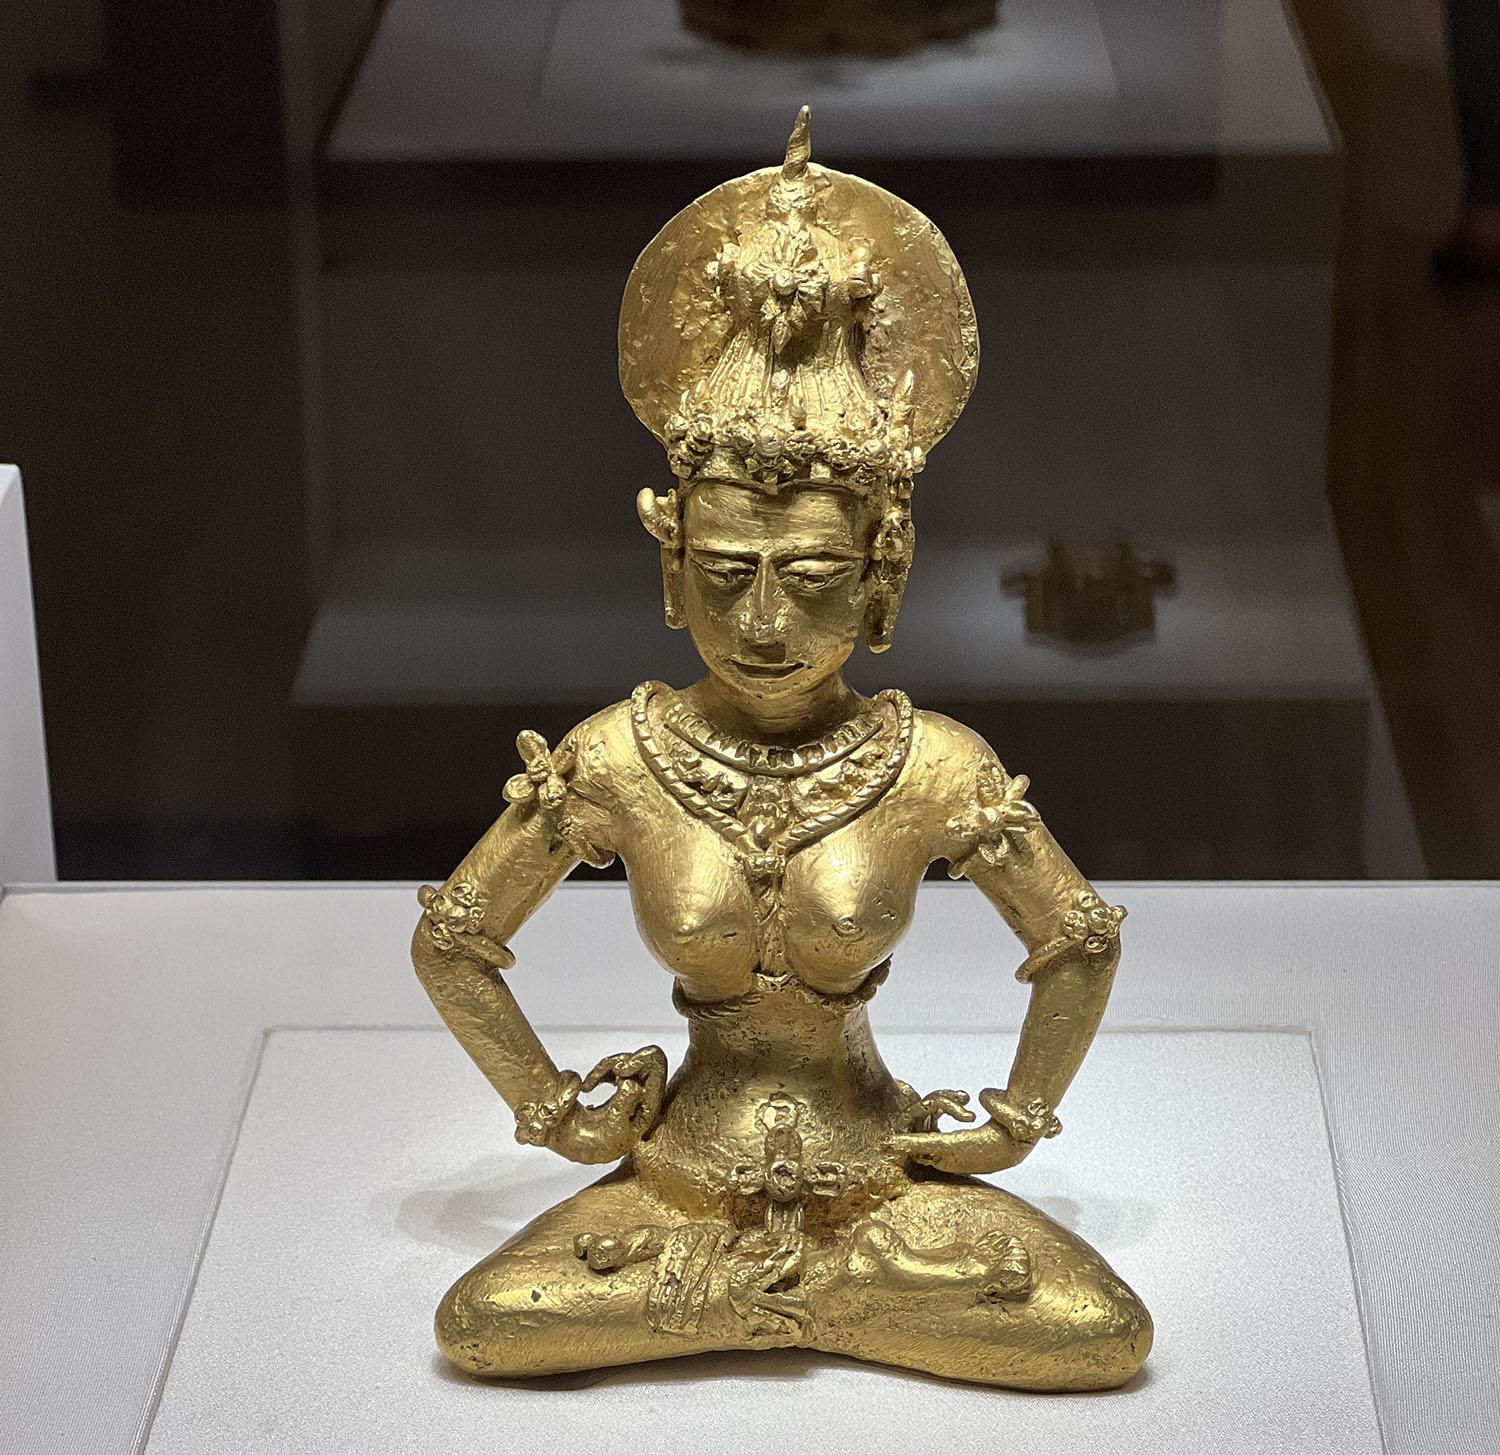golden_tara_of_agusan: (340, 84, 1167, 1400)
